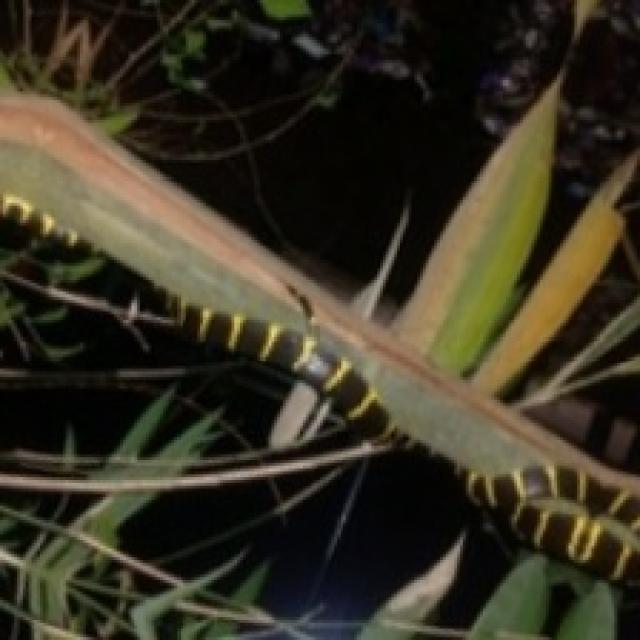mangrove cat snake: (171, 296, 418, 448), (456, 464, 640, 581), (0, 196, 84, 248)
